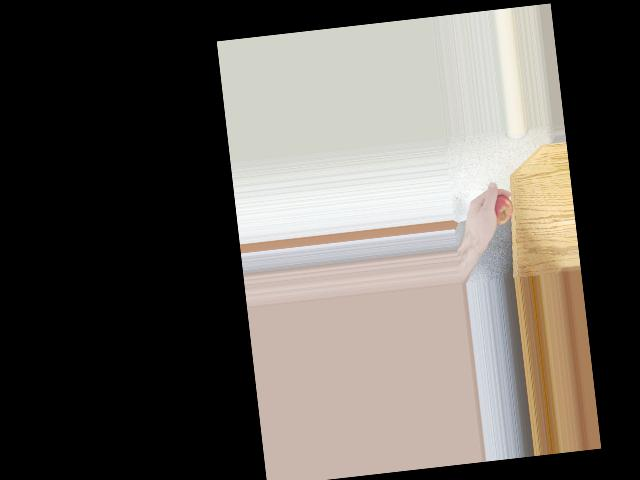apple: (485, 190, 516, 221)
